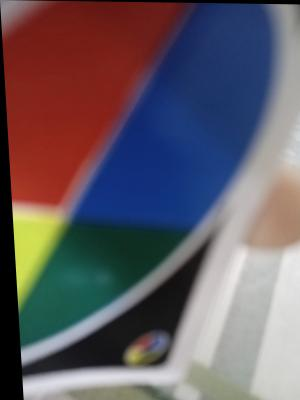wild: (115, 327, 166, 364)
